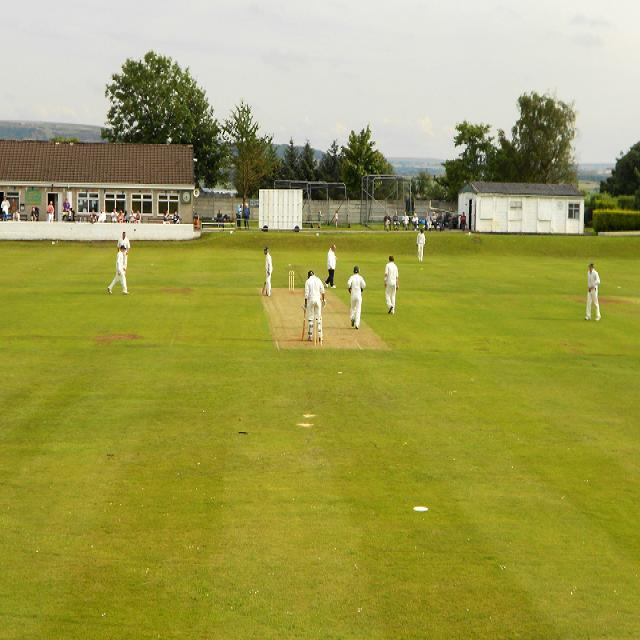stumps: (312, 313, 323, 347), (288, 268, 295, 292)
